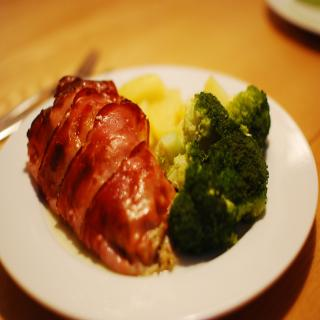Broccoli: (166, 80, 272, 259)
